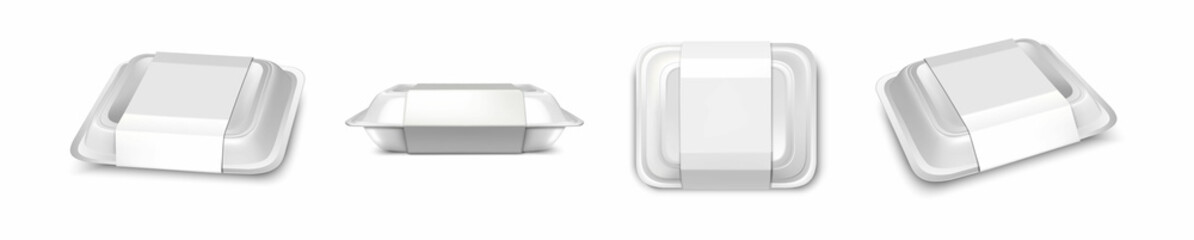styrofoam: (875, 37, 1118, 185), (70, 50, 306, 179), (632, 41, 822, 193), (342, 80, 585, 159)
